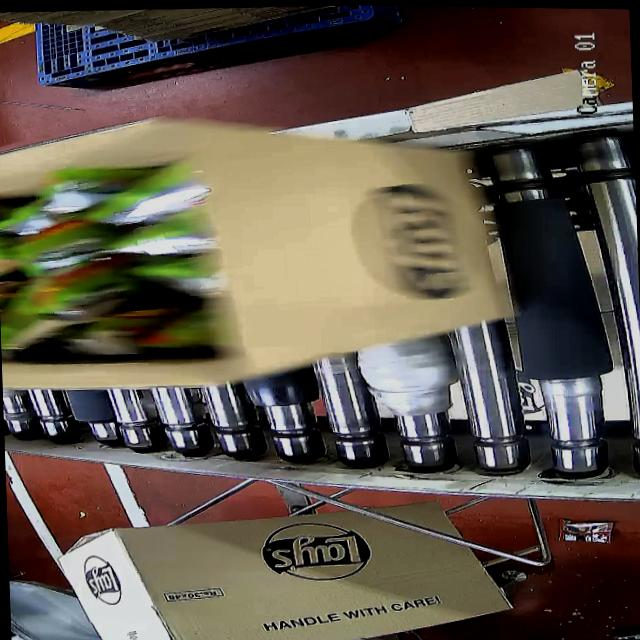YOGURT_HERB: (0, 155, 216, 359)
